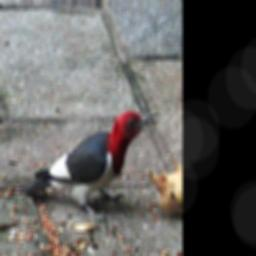Woodpecker: (16, 102, 166, 230)
